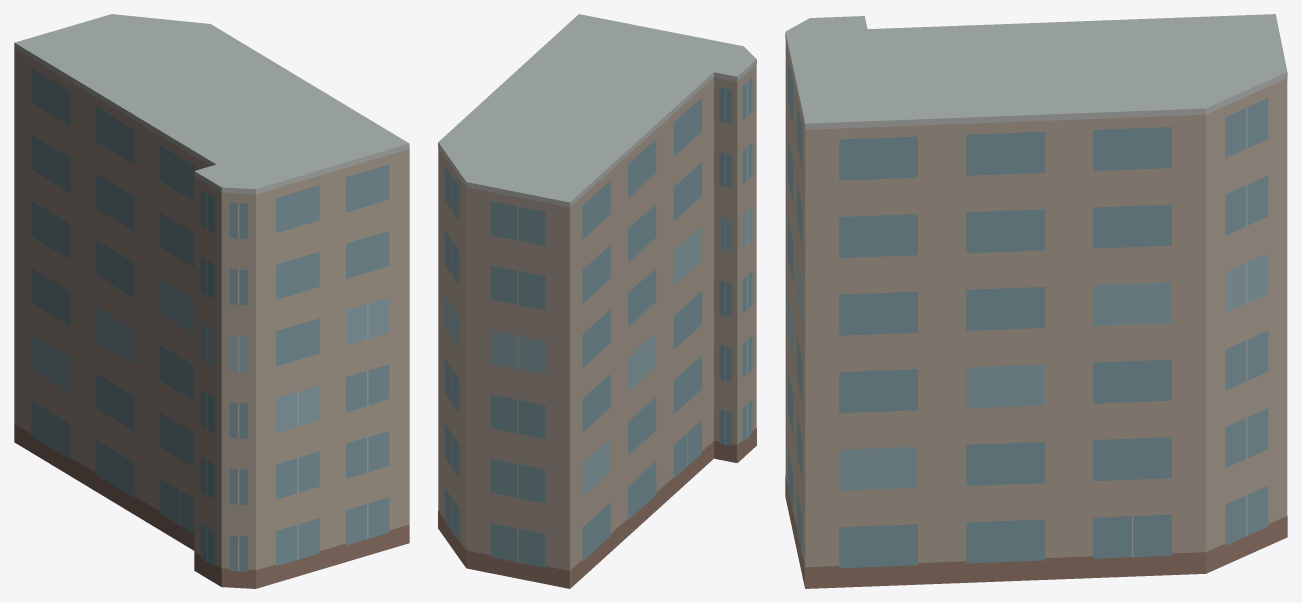
File: survey-upis-32755785.glb
3 views of the same model, side by side, from view 1: azimuth 30°, elevation 25°; view 2: azimuth 150°, elevation 25°; view 3: azimuth 270°, elevation 25° (orthographic). The views are drawn at different scales.
Visible parts, largest first — view 1: survey-upis-32755785.tmp; view 2: survey-upis-32755785.tmp; view 3: survey-upis-32755785.tmp.
Part boxes in pixels (bbox=[...]): survey-upis-32755785.tmp: bbox=[14, 14, 409, 588]; survey-upis-32755785.tmp: bbox=[438, 14, 756, 588]; survey-upis-32755785.tmp: bbox=[785, 14, 1287, 588].
Bounding box in the file's own units: 9.26 × 18.3 × 17.91.
